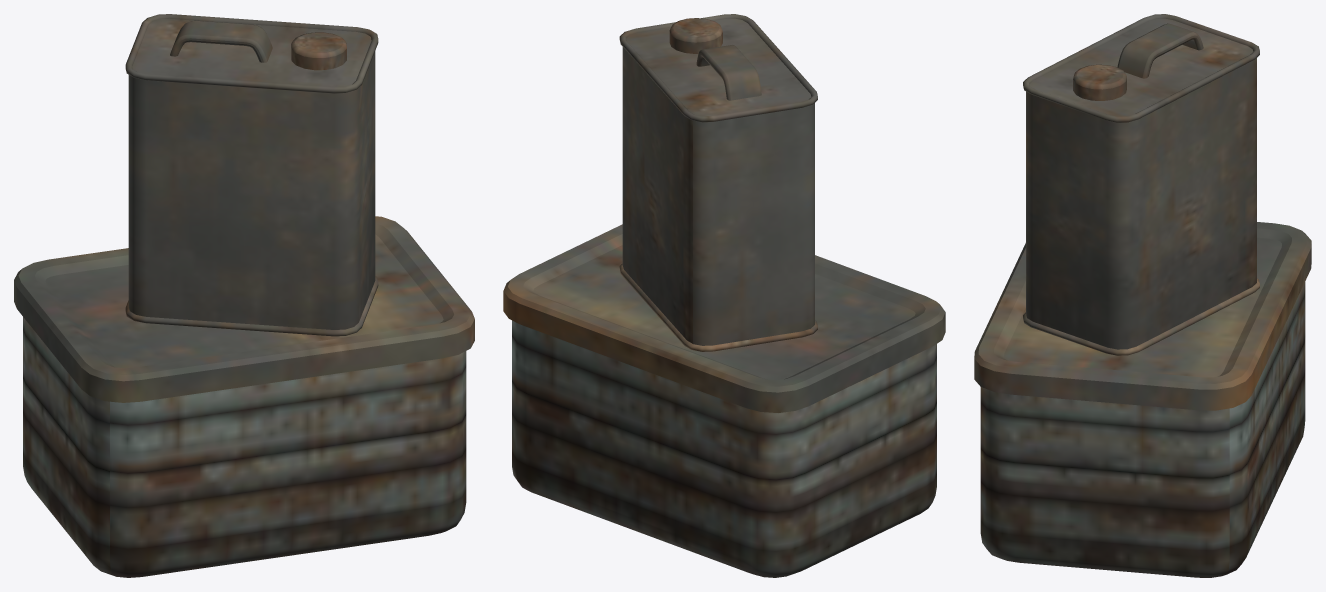
File: prop_small_010.glb
The picture shows the model from 3 angles, left to right: view 1: azimuth 30°, elevation 25°; view 2: azimuth 150°, elevation 25°; view 3: azimuth 270°, elevation 25°; orthographic projection. The views are drawn at different scales.
Parts seen in each view (by area): view 1: Building_12_016; view 2: Building_12_016; view 3: Building_12_016.
Part boxes in pixels (box(x1,y1,x2,y2)): Building_12_016: box(14, 14, 474, 577); Building_12_016: box(503, 14, 945, 577); Building_12_016: box(974, 14, 1311, 577).
Size of the model in its own units: 0.6806 by 0.8 by 0.5388.
Materials: 1 (1 with a texture image).
